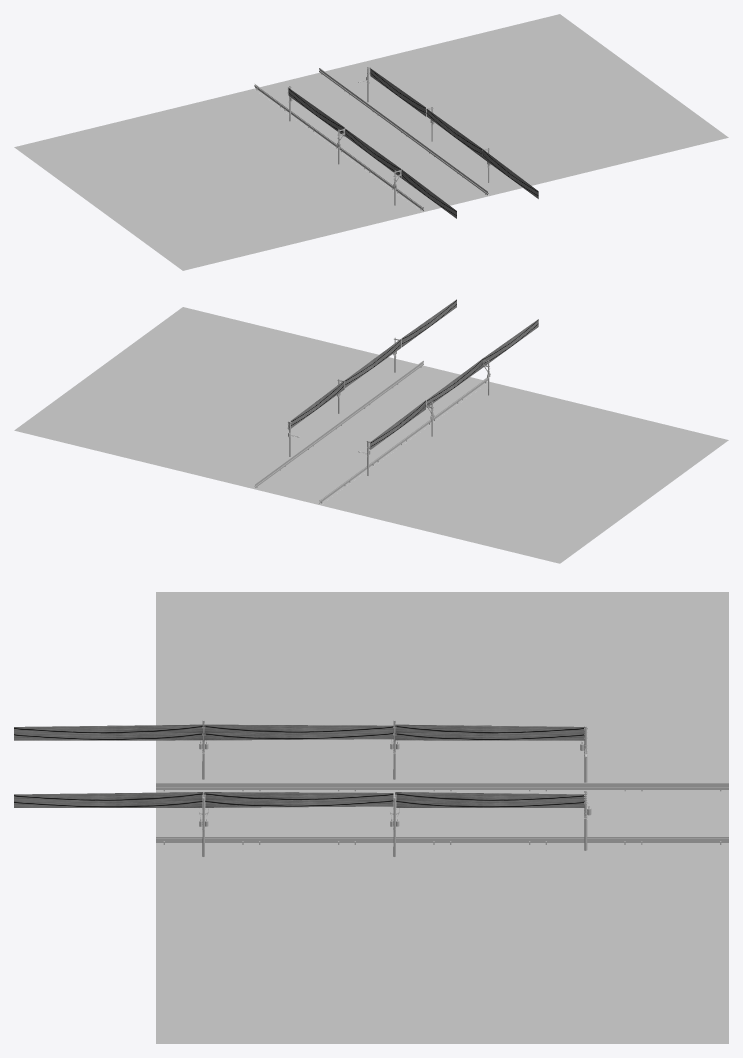
Rendered from HighwayRoadGroup1.FBX.
3 renders of one model, top to bottom at view 1: azimuth 30°, elevation 25°; view 2: azimuth 150°, elevation 25°; view 3: azimuth 270°, elevation 25°, orthographic. The views are drawn at different scales.
Visible parts, largest first — view 1: Sides, HighwayRoadGroup1, AsphaltSection (×2), ElectricalLines, GuardRails; view 2: Sides, HighwayRoadGroup1, AsphaltSection (×2), ElectricalLines, GuardRails; view 3: Sides, HighwayRoadGroup1, AsphaltSection (×2), ElectricalLines, GuardRails.
Boxes of the visible parts, box(x1,y1,x2,y2) form: Sides: box(14, 14, 728, 270); HighwayRoadGroup1: box(206, 61, 536, 223); AsphaltSection (×2): box(254, 72, 488, 212); ElectricalLines: box(288, 68, 538, 218); GuardRails: box(254, 68, 488, 210); Sides: box(14, 307, 728, 563); HighwayRoadGroup1: box(206, 337, 536, 516); AsphaltSection (×2): box(254, 365, 487, 505); ElectricalLines: box(288, 299, 538, 449); GuardRails: box(254, 360, 487, 503); Sides: box(156, 592, 728, 1043); HighwayRoadGroup1: box(156, 720, 728, 885); AsphaltSection (×2): box(156, 790, 728, 845); ElectricalLines: box(14, 724, 584, 807); GuardRails: box(156, 782, 728, 844).
Size of the model in its own units: 514 by 31.9 by 344.
